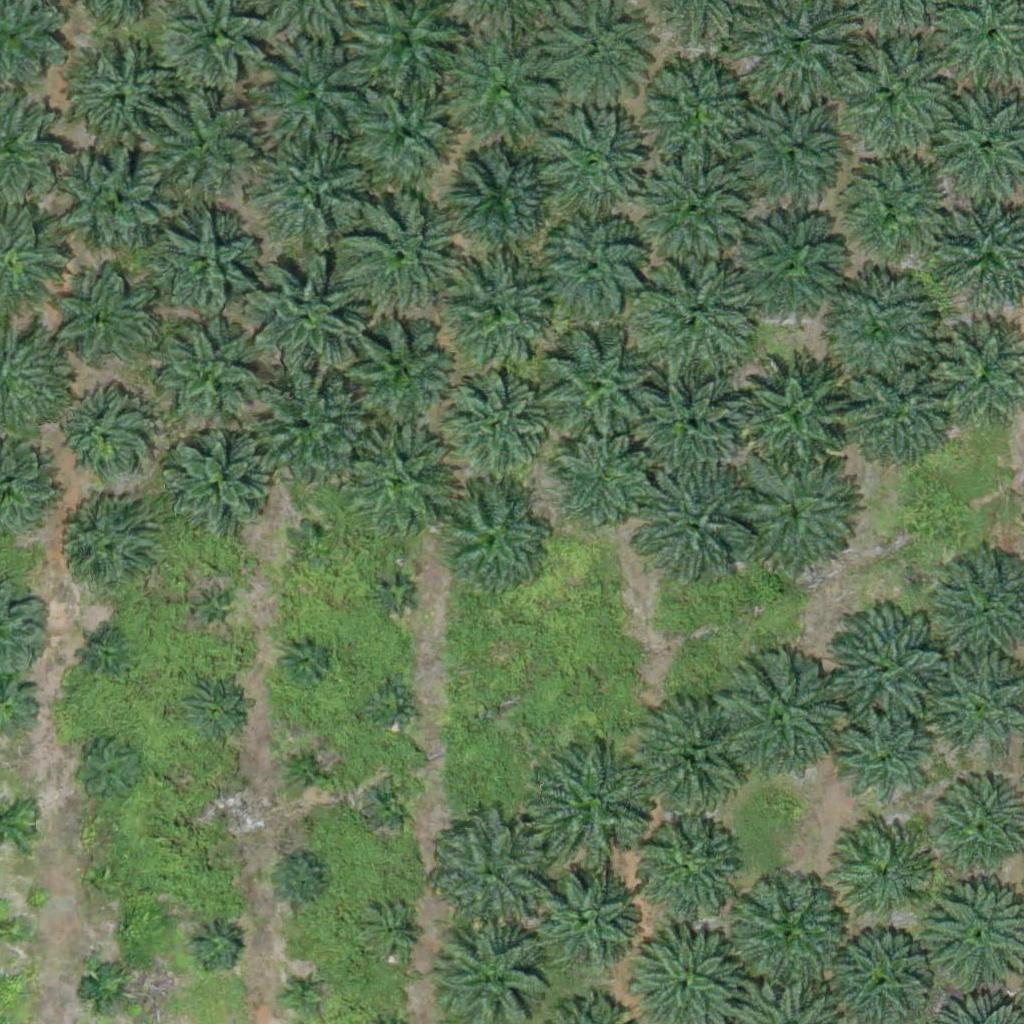Kelapa_Sawit: (148, 316, 273, 442), (251, 31, 376, 157), (249, 125, 374, 251), (244, 260, 369, 386), (244, 375, 369, 501), (345, 69, 470, 195), (341, 190, 466, 316), (331, 303, 456, 429), (433, 25, 558, 151), (527, 107, 652, 233), (532, 327, 657, 453), (637, 147, 762, 273), (636, 255, 761, 381), (632, 463, 757, 589), (818, 37, 943, 163), (731, 348, 856, 474), (735, 452, 860, 578), (822, 606, 947, 732), (716, 659, 841, 785), (533, 744, 658, 870), (725, 867, 850, 993), (637, 53, 762, 178), (823, 148, 948, 273), (812, 266, 937, 391), (433, 364, 546, 478), (445, 257, 558, 371), (546, 426, 659, 540), (635, 698, 748, 812), (66, 45, 179, 158), (51, 141, 164, 254), (165, 431, 278, 544), (437, 483, 550, 596), (448, 145, 561, 258), (732, 211, 845, 324), (733, 97, 846, 210), (838, 356, 951, 469), (145, 92, 257, 206), (147, 205, 259, 318), (344, 431, 456, 544), (538, 215, 650, 328), (630, 371, 742, 484), (434, 817, 546, 930), (50, 269, 150, 370), (52, 386, 152, 487), (50, 499, 150, 600), (833, 708, 933, 809), (536, 867, 636, 968), (831, 823, 931, 923), (635, 816, 735, 916), (69, 732, 144, 807), (267, 849, 330, 912), (185, 680, 247, 743), (366, 906, 416, 957), (189, 919, 239, 970), (282, 741, 332, 792), (280, 632, 330, 682), (81, 966, 131, 1016), (366, 779, 416, 829), (369, 569, 419, 619), (365, 680, 415, 730), (185, 584, 235, 634), (288, 515, 338, 565), (277, 969, 327, 1019), (89, 862, 127, 900), (87, 638, 125, 675), (212, 795, 237, 820)
